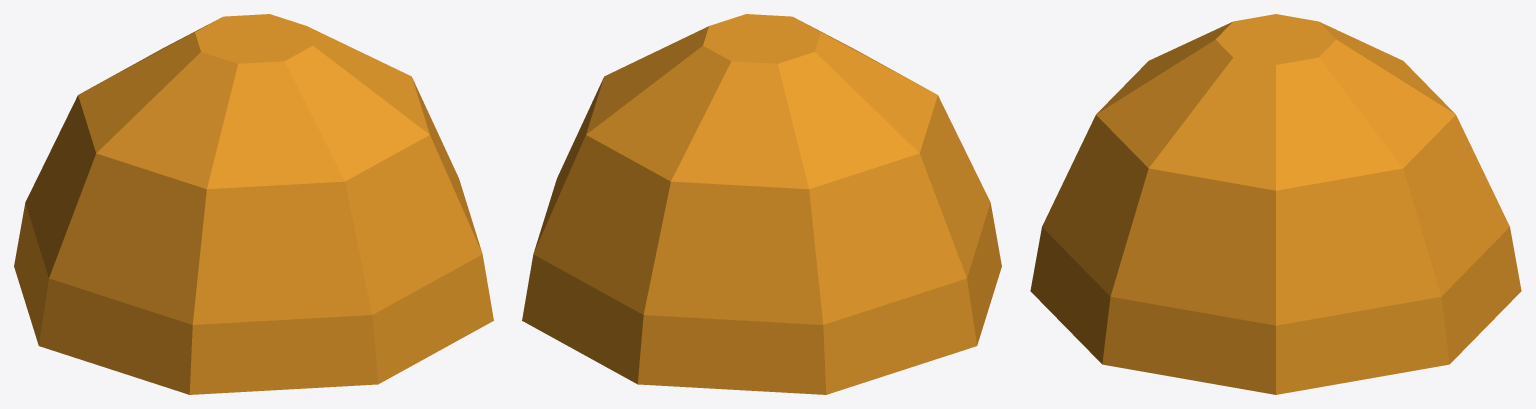
File: HayUV.fbx
3 views of the same model, side by side, from view 1: azimuth 30°, elevation 25°; view 2: azimuth 150°, elevation 25°; view 3: azimuth 270°, elevation 25° (orthographic).
Visible parts, largest first — view 1: Cylinder; view 2: Cylinder; view 3: Cylinder.
Boxes of the visible parts, bbox=[...] form: Cylinder: bbox=[14, 14, 493, 394]; Cylinder: bbox=[522, 14, 1001, 394]; Cylinder: bbox=[1030, 14, 1521, 394].
Size of the model in its own units: 400 by 226 by 400.
